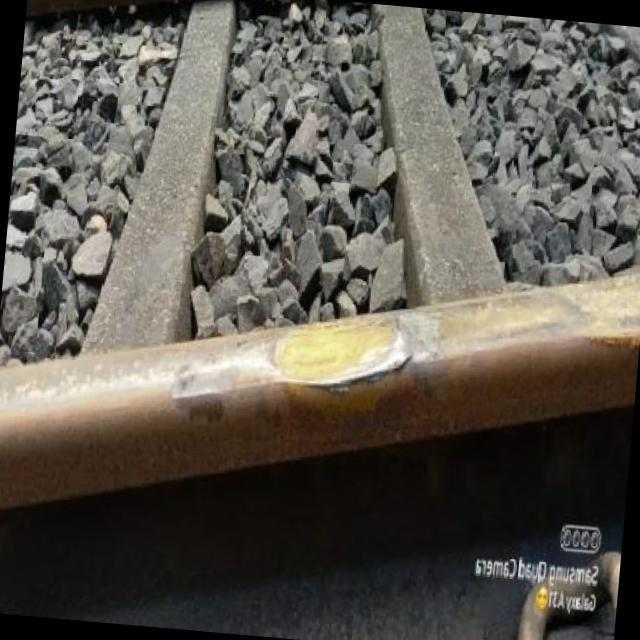defective: (122, 193, 457, 519)
